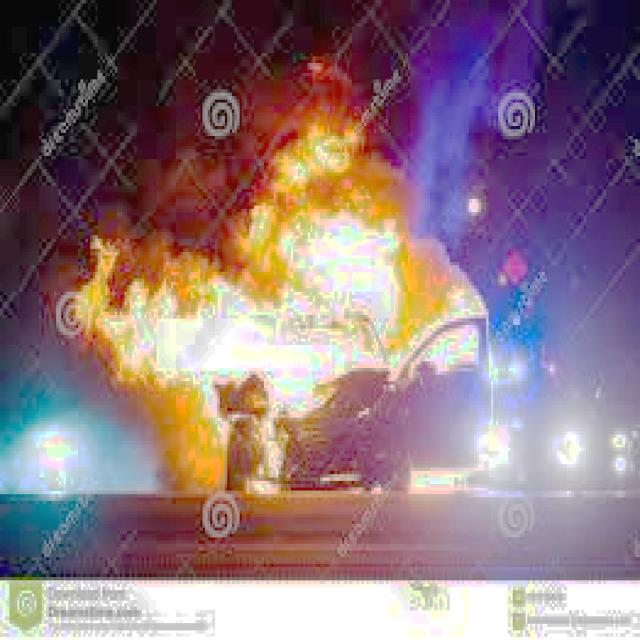api: (77, 124, 490, 459)
